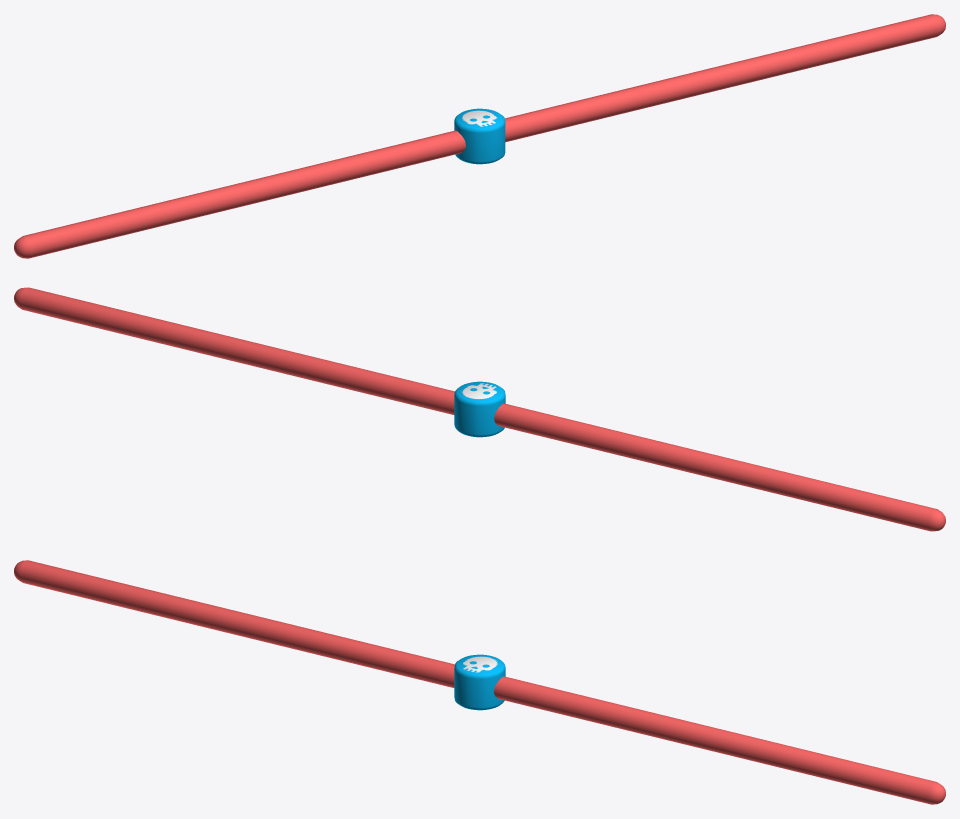
The model's file is stick_2_4.FBX.
3 views of the same model, one above another, from view 1: azimuth 30°, elevation 25°; view 2: azimuth 150°, elevation 25°; view 3: azimuth 330°, elevation 25° (orthographic).
Parts seen in each view (by area): view 1: stick_2_4; view 2: stick_2_4; view 3: stick_2_4.
Boxes of the visible parts, bbox=[...] form: stick_2_4: bbox=[14, 14, 945, 258]; stick_2_4: bbox=[14, 287, 945, 531]; stick_2_4: bbox=[14, 560, 945, 804].
Size of the model in its own units: 31.25 by 1.16 by 1.49.
Materials: 1 (1 with a texture image).
